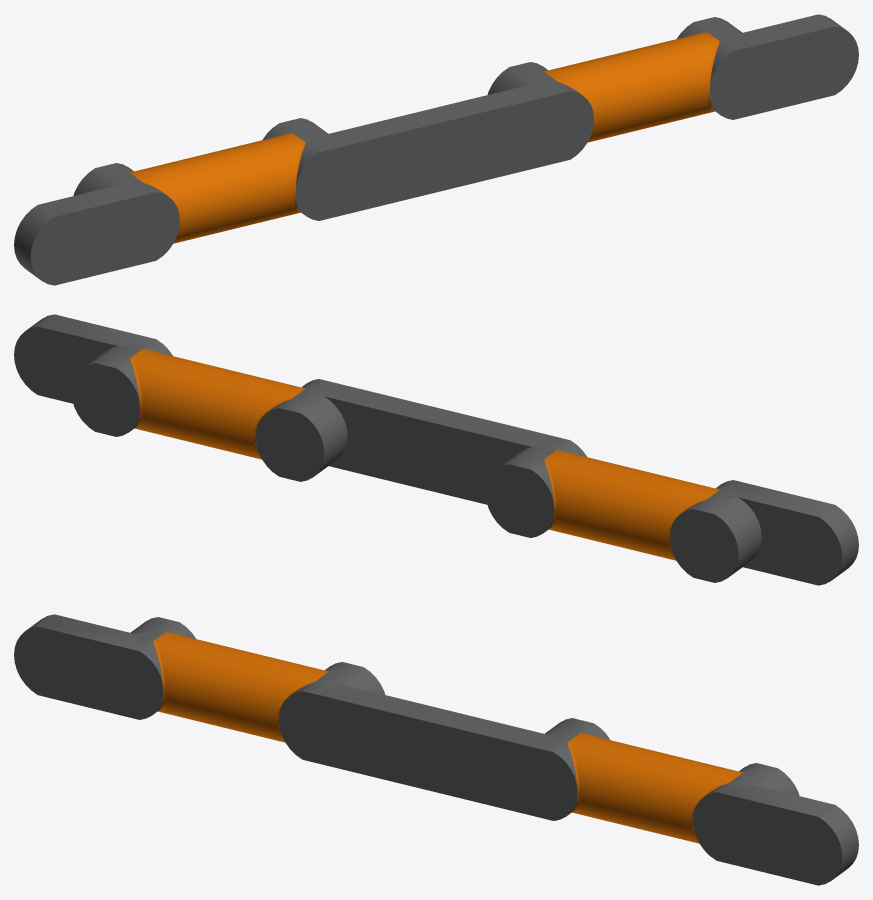
The picture shows the model from 3 angles, top to bottom: view 1: azimuth 30°, elevation 25°; view 2: azimuth 150°, elevation 25°; view 3: azimuth 330°, elevation 25°; orthographic projection.
Parts seen in each view (by area): view 1: l2_LOD0, l2_col; view 2: l2_LOD0, l2_col; view 3: l2_LOD0, l2_col.
Part boxes in pixels (x1,y1,x2,y2): l2_LOD0: (14, 14, 858, 285); l2_col: (30, 16, 855, 285); l2_LOD0: (14, 314, 858, 585); l2_col: (15, 316, 840, 584); l2_LOD0: (14, 614, 858, 885); l2_col: (14, 615, 842, 885).
Size of what is drawn, in the model's own units: 144 by 11.93 by 12.
